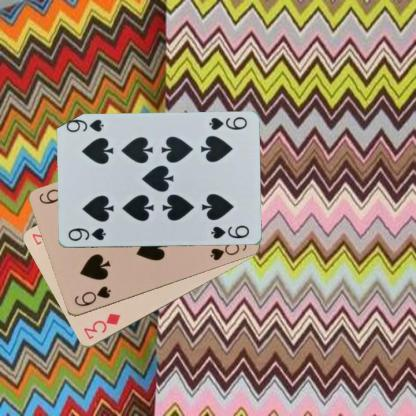3d: (81, 311, 122, 341)
6s: (72, 284, 112, 308)
9s: (206, 114, 248, 132), (66, 225, 106, 243)
